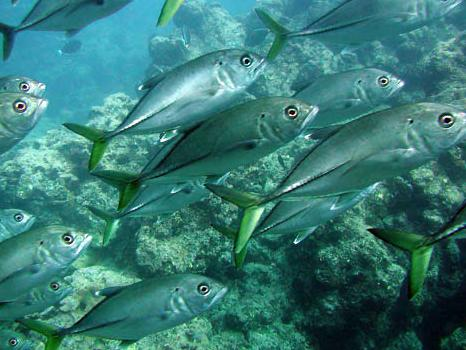Carangidae -Jacks-: (213, 98, 466, 258), (62, 44, 272, 177), (91, 89, 319, 211), (23, 262, 235, 350), (241, 0, 464, 44)
